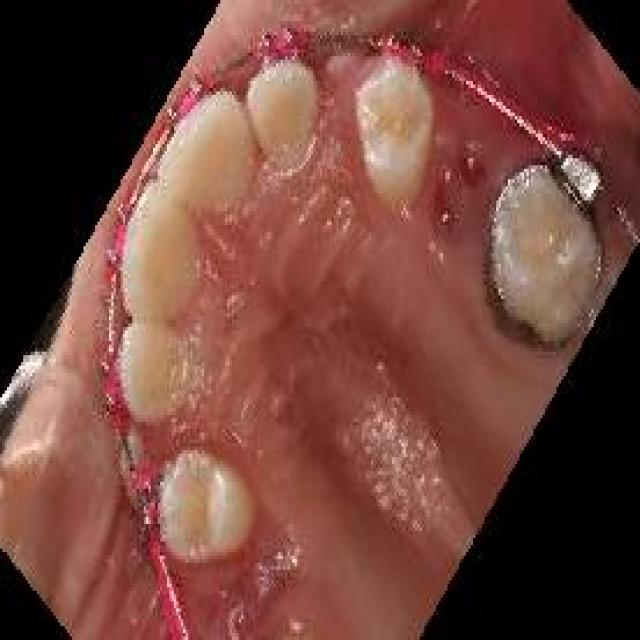caries: (472, 260, 552, 364)
